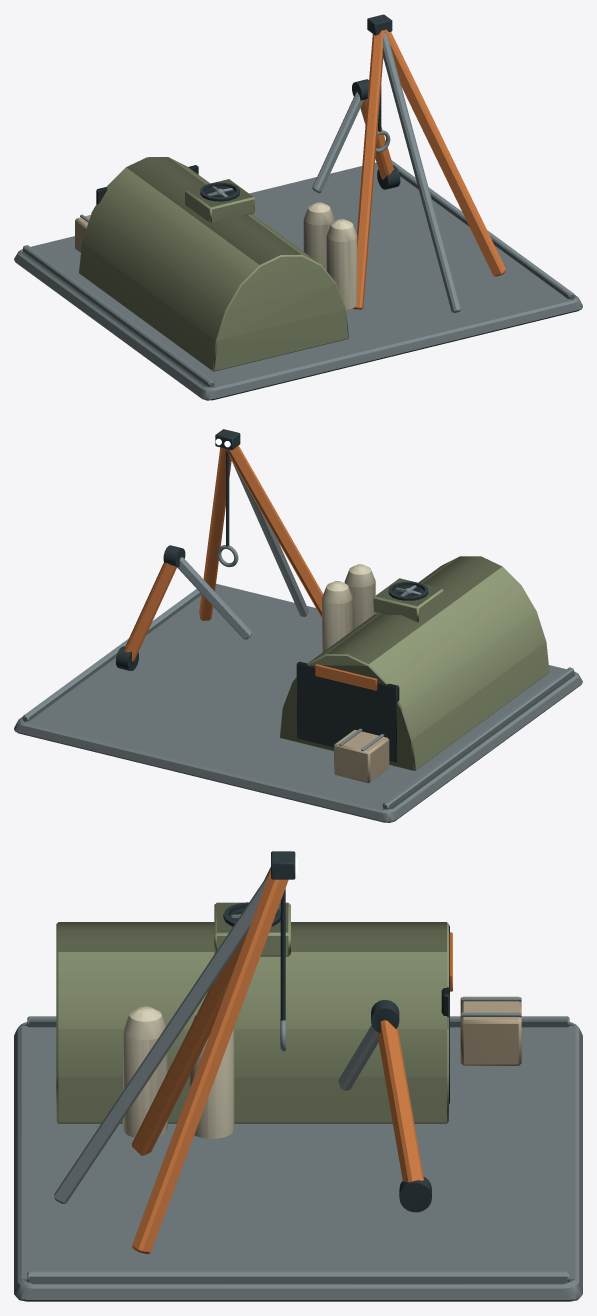
Rendered from FieldWorkshop.glb.
The picture shows the model from 3 angles, top to bottom: view 1: azimuth 30°, elevation 25°; view 2: azimuth 150°, elevation 25°; view 3: azimuth 270°, elevation 25°; orthographic projection. The views are drawn at different scales.
Visible parts, largest first — view 1: export_FieldWorkshop_GravelPad, export_FieldWorkshop_ArmBase; view 2: export_FieldWorkshop_GravelPad, export_FieldWorkshop_ArmBase; view 3: export_FieldWorkshop_GravelPad, export_FieldWorkshop_ArmBase.
Part boxes in pixels (left/top/right/bottom): export_FieldWorkshop_GravelPad: left=14, top=14, right=582, bottom=400; export_FieldWorkshop_ArmBase: left=312, top=79, right=400, bottom=193; export_FieldWorkshop_GravelPad: left=14, top=429, right=582, bottom=822; export_FieldWorkshop_ArmBase: left=115, top=545, right=251, bottom=670; export_FieldWorkshop_GravelPad: left=14, top=851, right=582, bottom=1301; export_FieldWorkshop_ArmBase: left=338, top=1000, right=431, bottom=1212.
Size of the model in its own units: 6.28 by 3.94 by 5.58.
